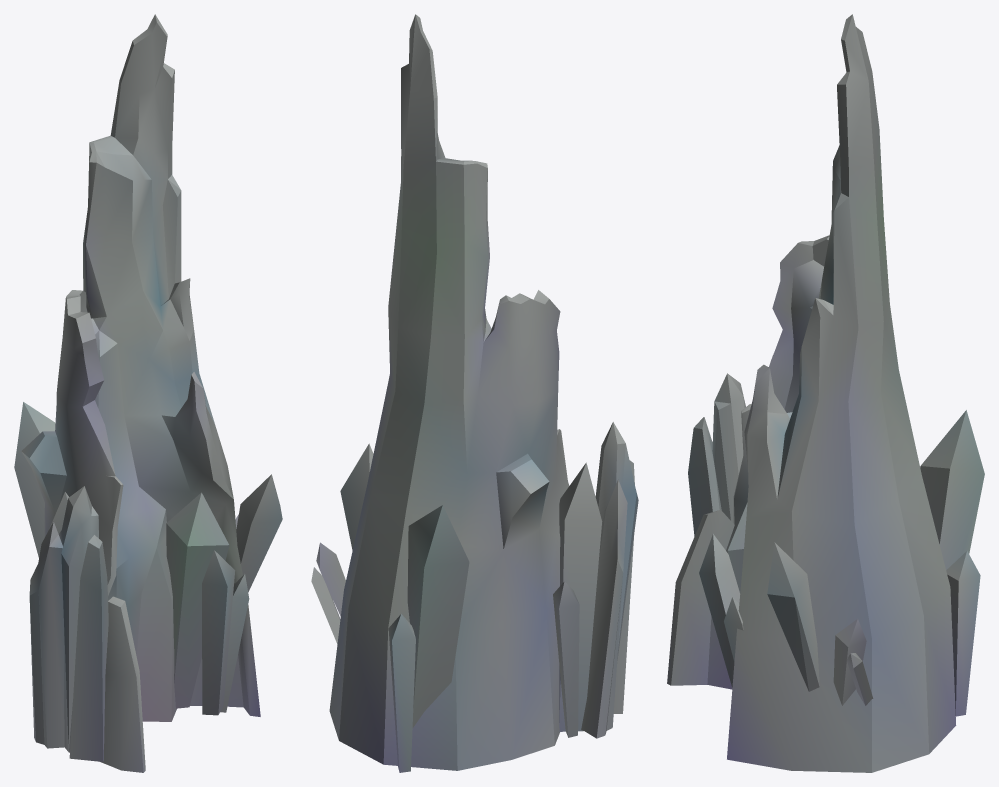
3 renders of one model, left to right at view 1: azimuth 30°, elevation 25°; view 2: azimuth 150°, elevation 25°; view 3: azimuth 270°, elevation 25°, orthographic. The views are drawn at different scales.
Parts seen in each view (by area): view 1: G:\FFXIV-MapTools\exports\f1f3\bg\ffxiv\fst_f1\fld\f1f3\bgpa; view 2: G:\FFXIV-MapTools\exports\f1f3\bg\ffxiv\fst_f1\fld\f1f3\bgpa; view 3: G:\FFXIV-MapTools\exports\f1f3\bg\ffxiv\fst_f1\fld\f1f3\bgpa.
Part boxes in pixels (x1=…): G:\FFXIV-MapTools\exports\f1f3\bg\ffxiv\fst_f1\fld\f1f3\bgpa: x1=14, y1=14, x2=282, y2=772; G:\FFXIV-MapTools\exports\f1f3\bg\ffxiv\fst_f1\fld\f1f3\bgpa: x1=311, y1=14, x2=638, y2=772; G:\FFXIV-MapTools\exports\f1f3\bg\ffxiv\fst_f1\fld\f1f3\bgpa: x1=667, y1=14, x2=984, y2=772.
Bounding box in the file's own units: 3.32 × 8.25 × 3.28.
